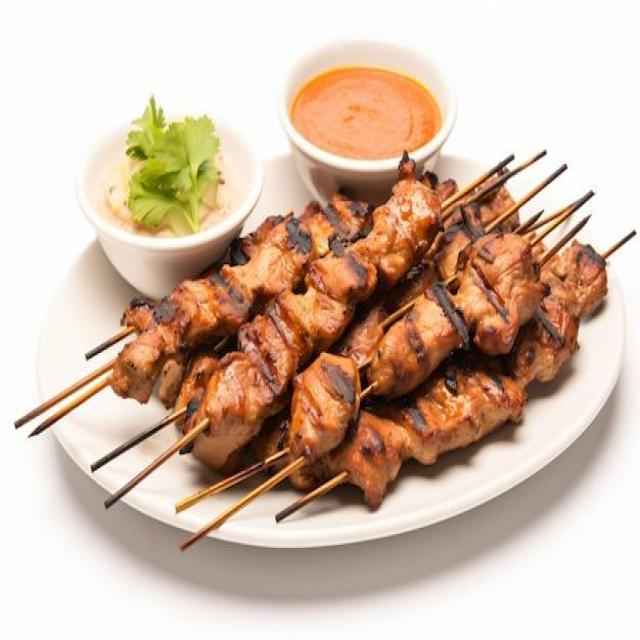Sate: (38, 170, 640, 580)
